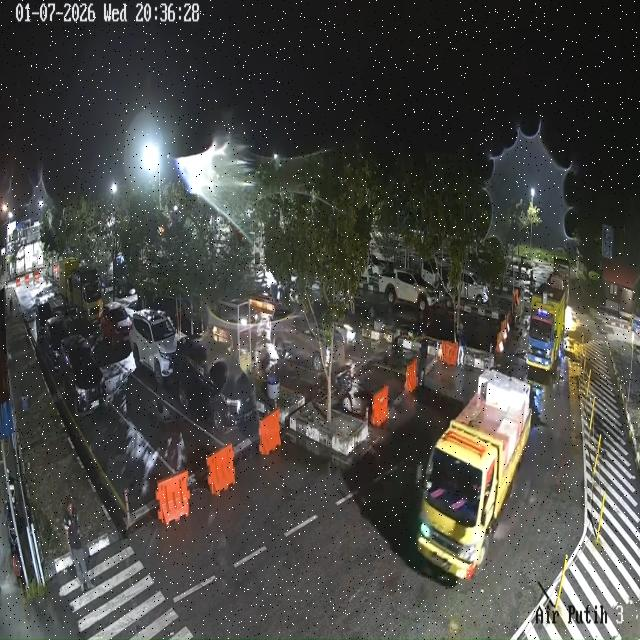Golongan IVA: (172, 334, 257, 433), (268, 314, 344, 372), (59, 335, 106, 418), (131, 309, 177, 385), (42, 316, 70, 370), (100, 301, 132, 347), (36, 302, 54, 341)
Golongan IVB: (378, 270, 438, 311)
Golongan VB: (417, 370, 531, 580), (526, 274, 567, 371), (71, 267, 103, 322), (58, 257, 79, 307)
